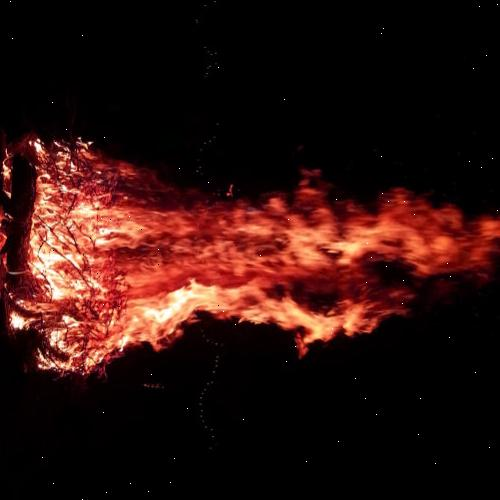fire: (0, 125, 500, 379)
